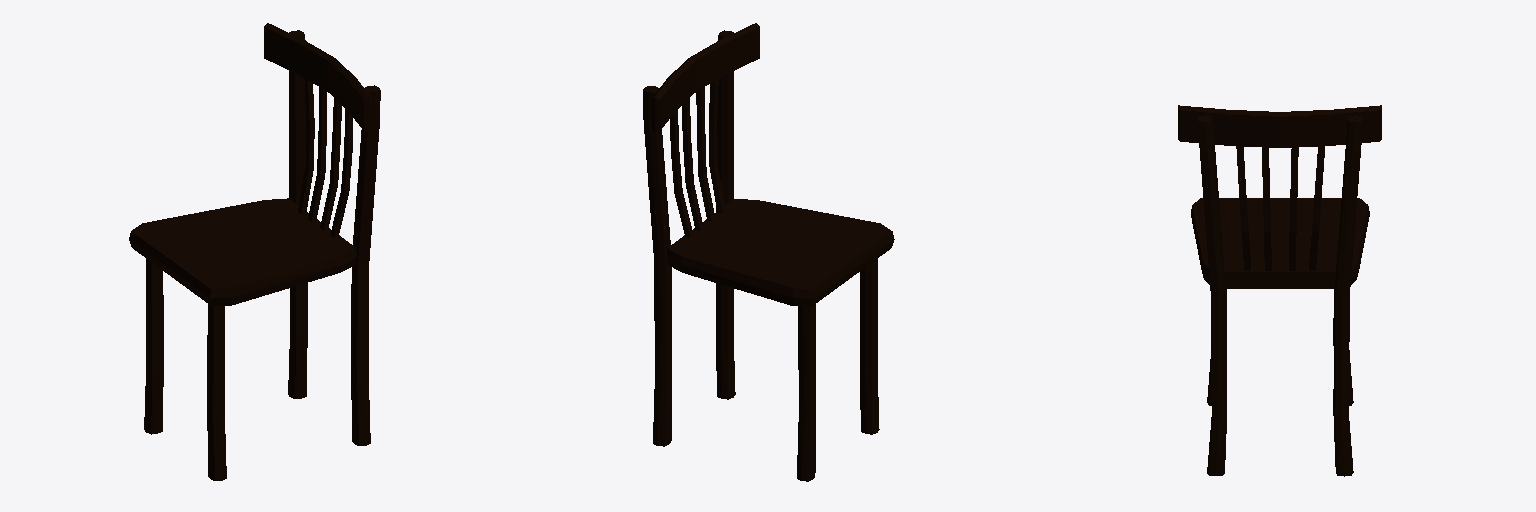
File: Chair_OBJ.obj
3 renders of one model, left to right at view 1: azimuth 30°, elevation 25°; view 2: azimuth 150°, elevation 25°; view 3: azimuth 270°, elevation 25°, orthographic.
Parts seen in each view (by area): view 1: Chair_seat1; view 2: Chair_seat1; view 3: Chair_seat1.
Part boxes in pixels (left/top/right/bottom): Chair_seat1: left=129, top=23, right=380, bottom=480; Chair_seat1: left=643, top=23, right=894, bottom=481; Chair_seat1: left=1178, top=105, right=1381, bottom=476.
Size of the model in its own units: 91.31 by 183 by 93.57.